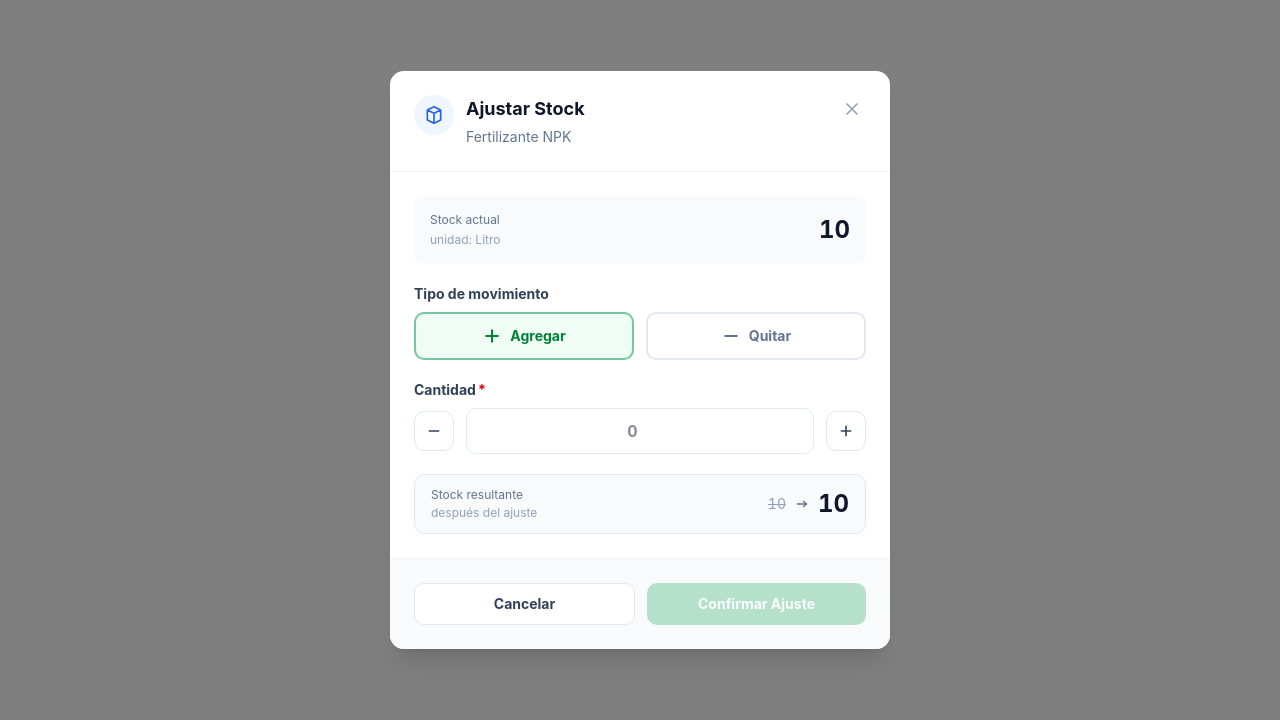
Test: AjustarStockModal › increments and decrements with the +/- buttons
This screenshot has width=1280, height=720.
Click the button named "Sumar". click: (846, 431)
box: [826,411,866,451]
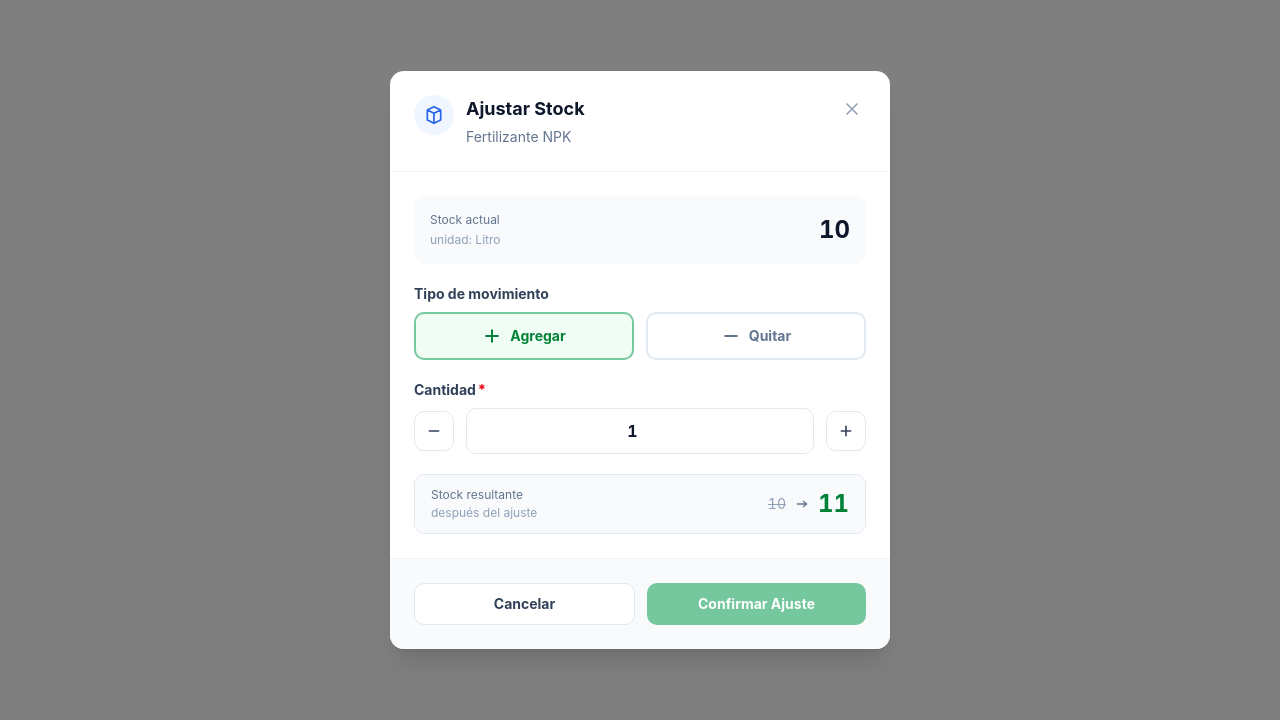
Click the button named "Sumar". click: (846, 431)
box: [826,411,866,451]
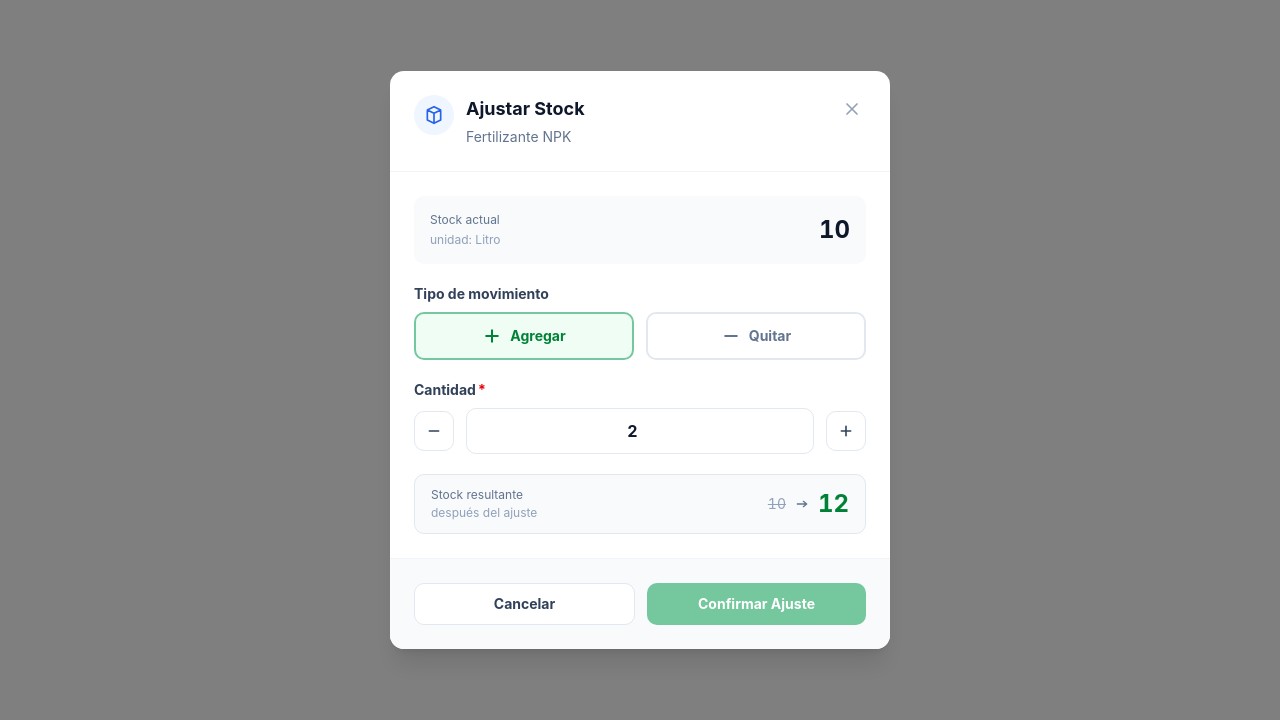
Expected: the number field holds "2", [466,408,814,454]
Click the button named "Restar". click: (434, 431)
box: [414,411,454,451]
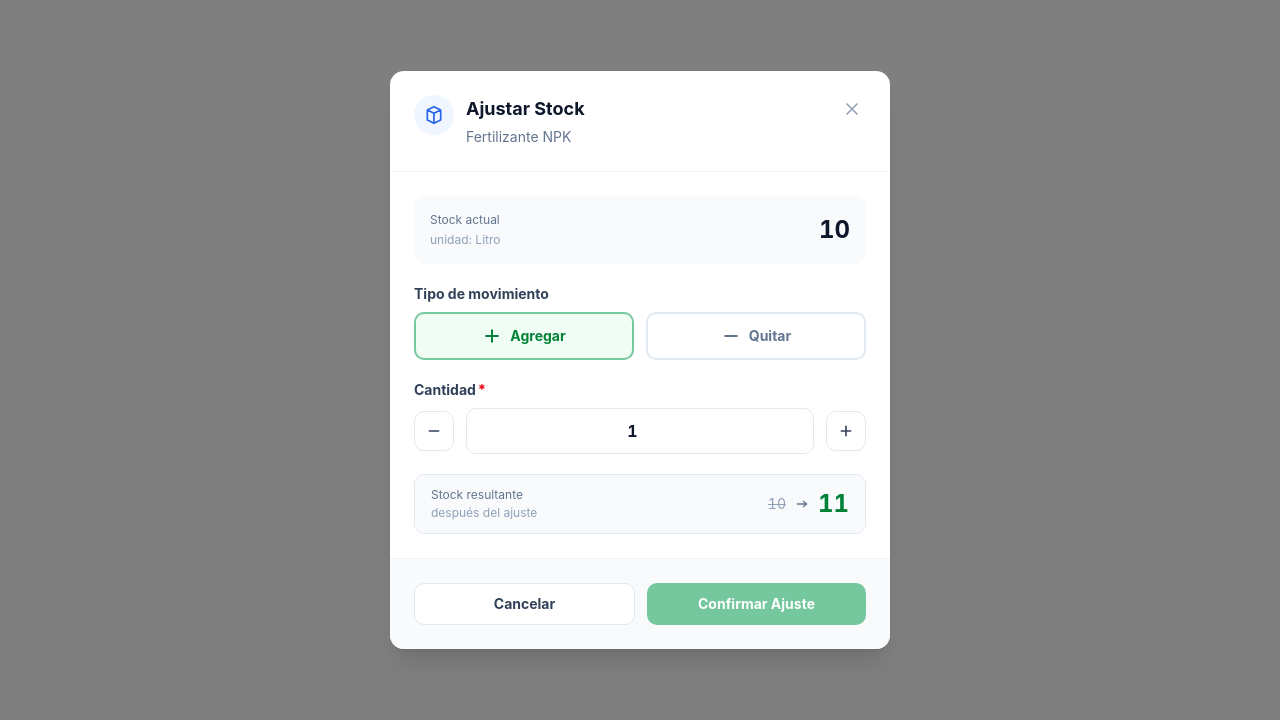
Expected: the number field holds "1", [466,408,814,454]
